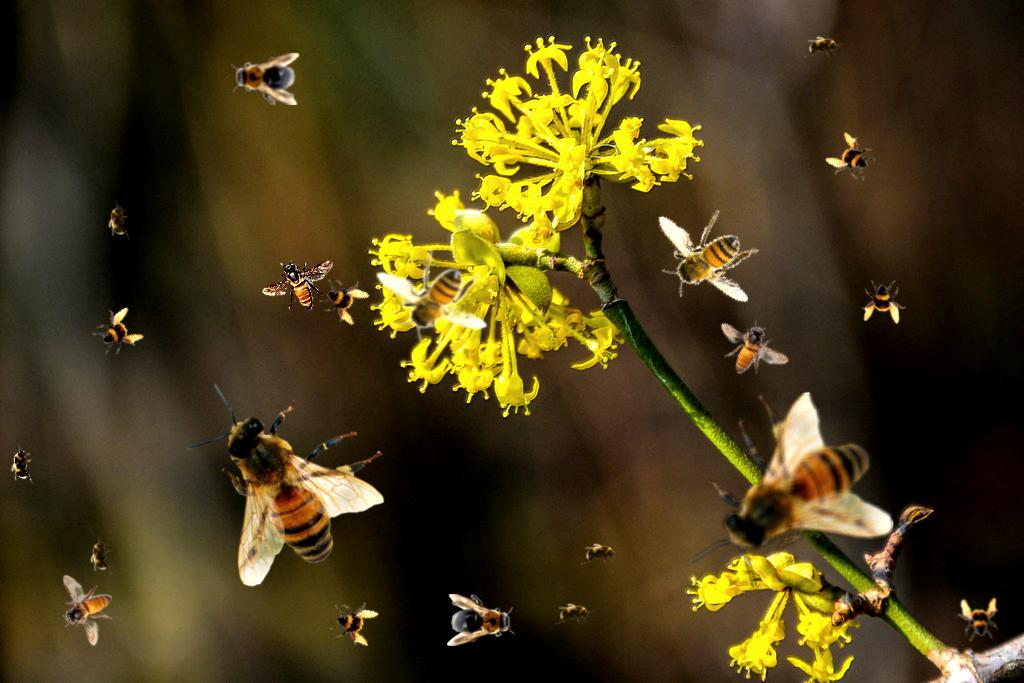Bee: (690, 392, 894, 591), (185, 383, 384, 587), (637, 193, 772, 317), (376, 249, 487, 343), (707, 304, 791, 391), (820, 128, 882, 190), (86, 300, 148, 362), (314, 269, 374, 329), (262, 260, 333, 310), (62, 575, 112, 646), (447, 594, 515, 646), (231, 53, 299, 105), (327, 595, 381, 649), (953, 594, 1003, 644), (862, 280, 906, 324), (581, 543, 621, 565), (108, 200, 130, 240), (11, 444, 33, 484), (804, 36, 844, 58), (90, 535, 112, 575), (555, 603, 595, 625)
